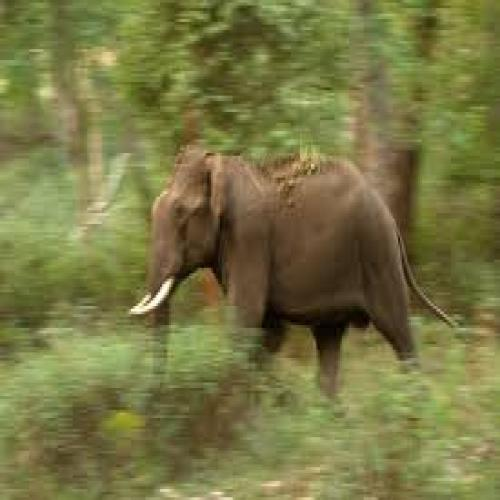asian_elephant-endangered: (134, 147, 453, 382)
